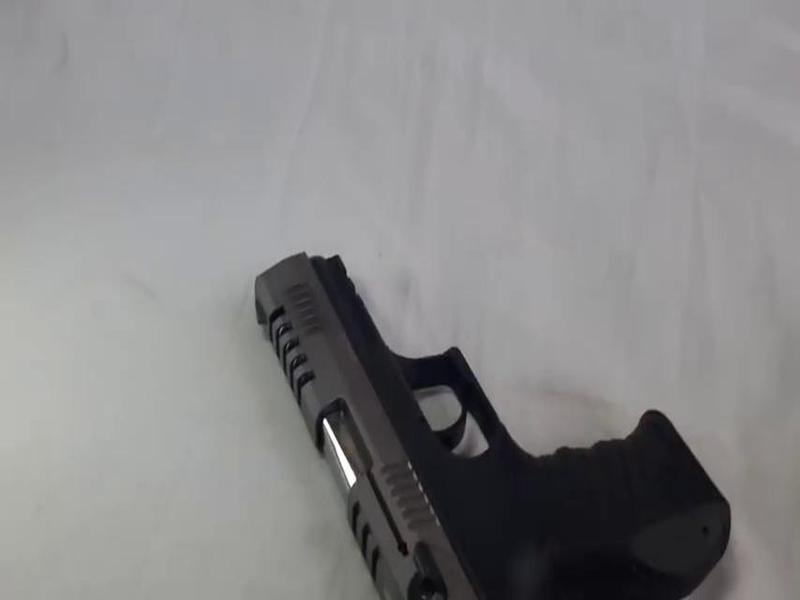Pistola: (249, 248, 732, 592)
